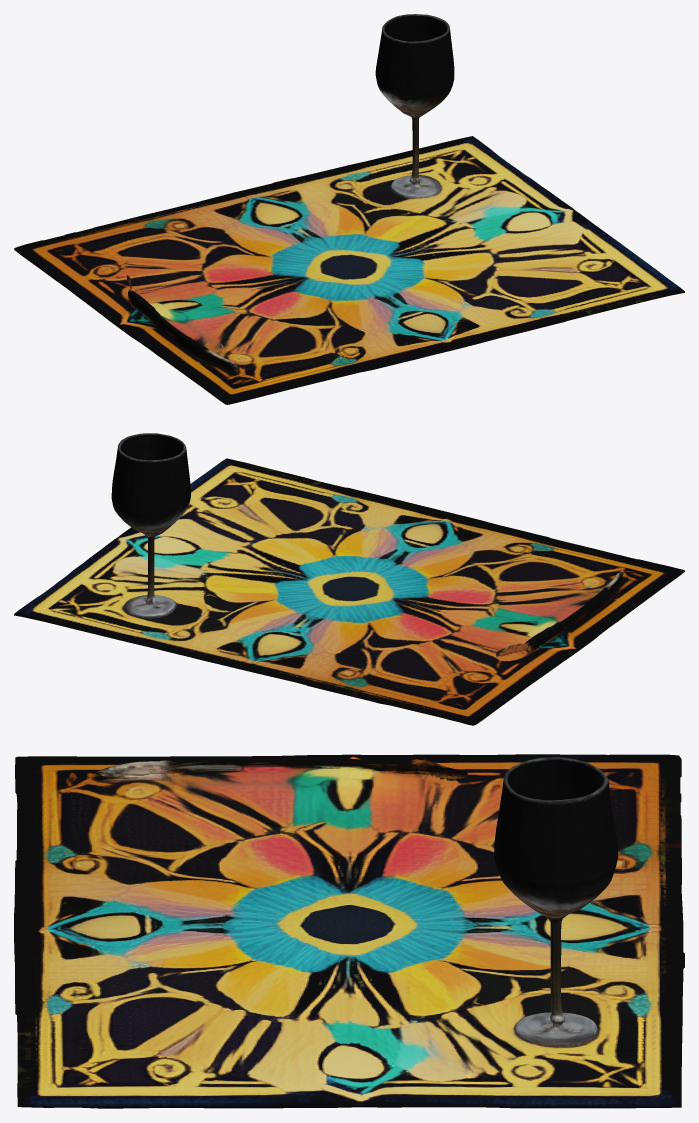
Rendered from natural-fiber-table-mat-art-deco.jpeg.glb.
3 renders of one model, top to bottom at view 1: azimuth 30°, elevation 25°; view 2: azimuth 150°, elevation 25°; view 3: azimuth 270°, elevation 25°, orthographic. The views are drawn at different scales.
Parts seen in each view (by area): view 1: world; view 2: world; view 3: world.
Boxes of the visible parts, bbox=[...] form: world: bbox=[14, 14, 684, 404]; world: bbox=[14, 433, 684, 725]; world: bbox=[14, 754, 684, 1108].
Size of the model in its own units: 1 by 0.3388 by 0.8069.
Materials: 1 (1 with a texture image).
